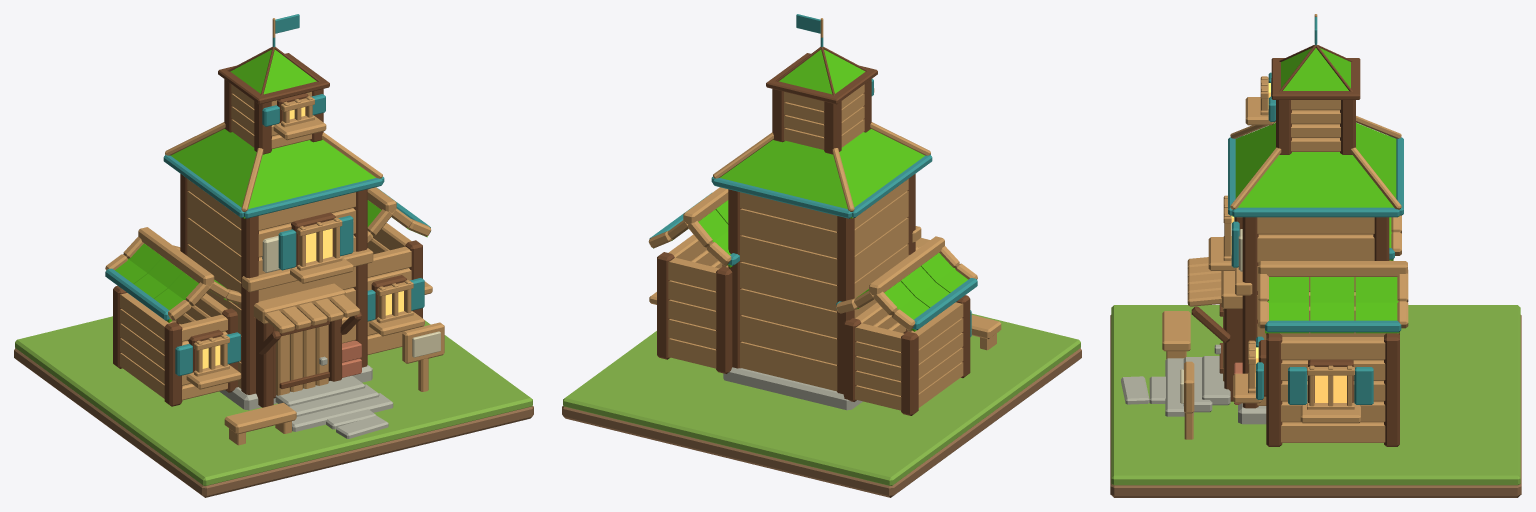
Rendered from town_hall_l05_active_LOD0.glb.
The picture shows the model from 3 angles, left to right: view 1: azimuth 30°, elevation 25°; view 2: azimuth 150°, elevation 25°; view 3: azimuth 270°, elevation 25°; orthographic projection. The views are drawn at different scales.
Visible parts, largest first — view 1: town_hall_l05_active_grass_tile, town_hall_l05_active_earth_tile, town_hall_l05_active_hip_roof_shingle.002, town_hall_l05_active_corner_reinforcement, town_hall_l05_active_hip_roof_shingle.011, town_hall_l05_active_central_spire_roof_shingle, town_hall_l05_active_corner_reinforcement.002, town_hall_l05_active_hip_roof_shingle.001, town_hall_l05_active_wall_siding.024, town_hall_l05_active_wall_siding.018, town_hall_l05_active_wall_siding.022, town_hall_l05_active_bench_seat (+46 smaller); view 2: town_hall_l05_active_grass_tile, town_hall_l05_active_earth_tile, town_hall_l05_active_hip_roof_shingle.008, town_hall_l05_active_wall_siding.017, town_hall_l05_active_wall_siding.005, town_hall_l05_active_wall_siding.001, town_hall_l05_active_wall_siding.021, town_hall_l05_active_wall_siding.009, town_hall_l05_active_wall_siding.013, town_hall_l05_active_hip_roof_shingle.011, town_hall_l05_active_corner_reinforcement.001, town_hall_l05_active_foundation (+41 smaller); view 3: town_hall_l05_active_grass_tile, town_hall_l05_active_earth_tile, town_hall_l05_active_hip_roof_shingle.005, town_hall_l05_active_wall_siding.023, town_hall_l05_active_annex_wall.039, town_hall_l05_active_central_spire_roof_shingle, town_hall_l05_active_ridge_cap.005, town_hall_l05_active_hip_roof_shingle.004, town_hall_l05_active_corner_reinforcement.002, town_hall_l05_active_annex_wall.023, town_hall_l05_active_wall_siding.027, town_hall_l05_active_eave_trim.001 (+48 smaller).
Boxes of the visible parts, x1=… form: town_hall_l05_active_grass_tile: x1=15, y1=316, x2=532, y2=485; town_hall_l05_active_earth_tile: x1=14, y1=348, x2=533, y2=497; town_hall_l05_active_hip_roof_shingle.002: x1=244, y1=156, x2=375, y2=218; town_hall_l05_active_corner_reinforcement: x1=241, y1=216, x2=258, y2=394; town_hall_l05_active_hip_roof_shingle.011: x1=171, y1=140, x2=250, y2=218; town_hall_l05_active_central_spire_roof_shingle: x1=230, y1=49, x2=316, y2=94; town_hall_l05_active_corner_reinforcement.002: x1=353, y1=189, x2=367, y2=367; town_hall_l05_active_hip_roof_shingle.001: x1=257, y1=139, x2=344, y2=176; town_hall_l05_active_wall_siding.024: x1=258, y1=192, x2=355, y2=230; town_hall_l05_active_wall_siding.018: x1=187, y1=217, x2=241, y2=282; town_hall_l05_active_wall_siding.022: x1=187, y1=191, x2=241, y2=255; town_hall_l05_active_bench_seat: x1=224, y1=402, x2=296, y2=434; town_hall_l05_active_grass_tile: x1=563, y1=313, x2=1080, y2=485; town_hall_l05_active_earth_tile: x1=562, y1=348, x2=1081, y2=497; town_hall_l05_active_hip_roof_shingle.008: x1=720, y1=156, x2=851, y2=218; town_hall_l05_active_wall_siding.017: x1=740, y1=235, x2=837, y2=284; town_hall_l05_active_wall_siding.005: x1=740, y1=315, x2=837, y2=364; town_hall_l05_active_wall_siding.001: x1=740, y1=341, x2=837, y2=391; town_hall_l05_active_wall_siding.021: x1=740, y1=208, x2=837, y2=258; town_hall_l05_active_wall_siding.009: x1=740, y1=288, x2=837, y2=337; town_hall_l05_active_wall_siding.013: x1=740, y1=262, x2=837, y2=311; town_hall_l05_active_hip_roof_shingle.011: x1=845, y1=140, x2=924, y2=218; town_hall_l05_active_corner_reinforcement.001: x1=837, y1=216, x2=854, y2=394; town_hall_l05_active_foundation: x1=723, y1=367, x2=862, y2=410; town_hall_l05_active_grass_tile: x1=1111, y1=305, x2=1520, y2=485; town_hall_l05_active_earth_tile: x1=1110, y1=315, x2=1521, y2=497; town_hall_l05_active_hip_roof_shingle.005: x1=1232, y1=177, x2=1399, y2=216; town_hall_l05_active_wall_siding.023: x1=1257, y1=234, x2=1374, y2=262; town_hall_l05_active_annex_wall.039: x1=1281, y1=337, x2=1385, y2=360; town_hall_l05_active_central_spire_roof_shingle: x1=1281, y1=48, x2=1350, y2=90; town_hall_l05_active_ridge_cap.005: x1=1258, y1=261, x2=1407, y2=276; town_hall_l05_active_hip_roof_shingle.004: x1=1262, y1=152, x2=1369, y2=177; town_hall_l05_active_corner_reinforcement.002: x1=1242, y1=217, x2=1258, y2=408; town_hall_l05_active_annex_wall.023: x1=1281, y1=422, x2=1385, y2=442; town_hall_l05_active_wall_siding.027: x1=1257, y1=217, x2=1374, y2=234; town_hall_l05_active_eave_trim.001: x1=1232, y1=207, x2=1399, y2=217.
Size of the model in its own units: 3.6 by 3.84 by 3.6.
